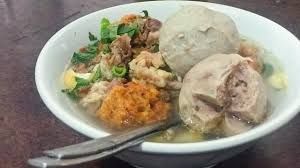bakso: (147, 6, 264, 152)
